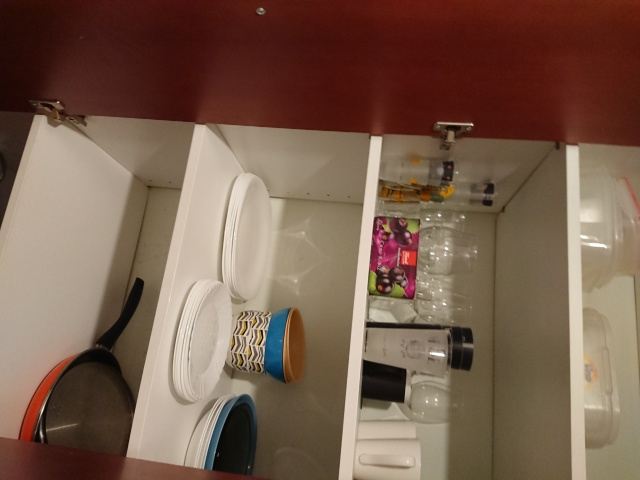Franck Black Currant Tea 60g: (365, 214, 422, 302)
